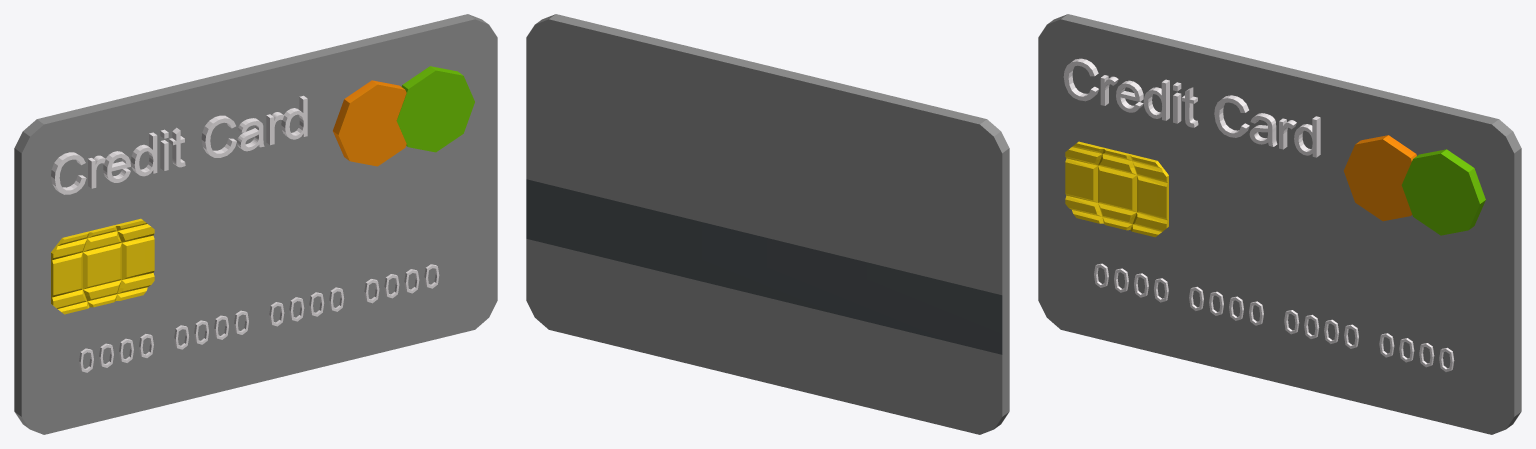
Rendered from CreditCard_revize.fbx.
The picture shows the model from 3 angles, left to right: view 1: azimuth 30°, elevation 25°; view 2: azimuth 150°, elevation 25°; view 3: azimuth 330°, elevation 25°; orthographic projection.
Parts seen in each view (by area): view 1: CreditCard; view 2: CreditCard; view 3: CreditCard.
Part boxes in pixels (bbox=[...]): CreditCard: bbox=[14, 14, 497, 434]; CreditCard: bbox=[526, 14, 1009, 434]; CreditCard: bbox=[1038, 14, 1521, 434].
Size of the model in its own units: 85 by 53 by 4.09.
2 materials, 1 textured.
